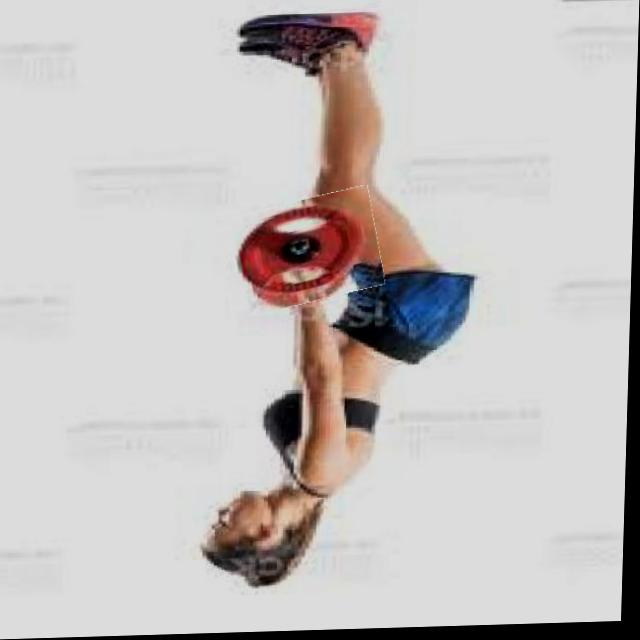barbell: (219, 195, 386, 315)
